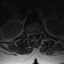CCS_normal: (33, 29, 35, 39)
LFS_normal: (37, 29, 40, 37)
LLS_normal: (35, 30, 37, 37)
RFS_normal: (28, 30, 31, 37)
RLS_normal: (31, 30, 33, 37)
